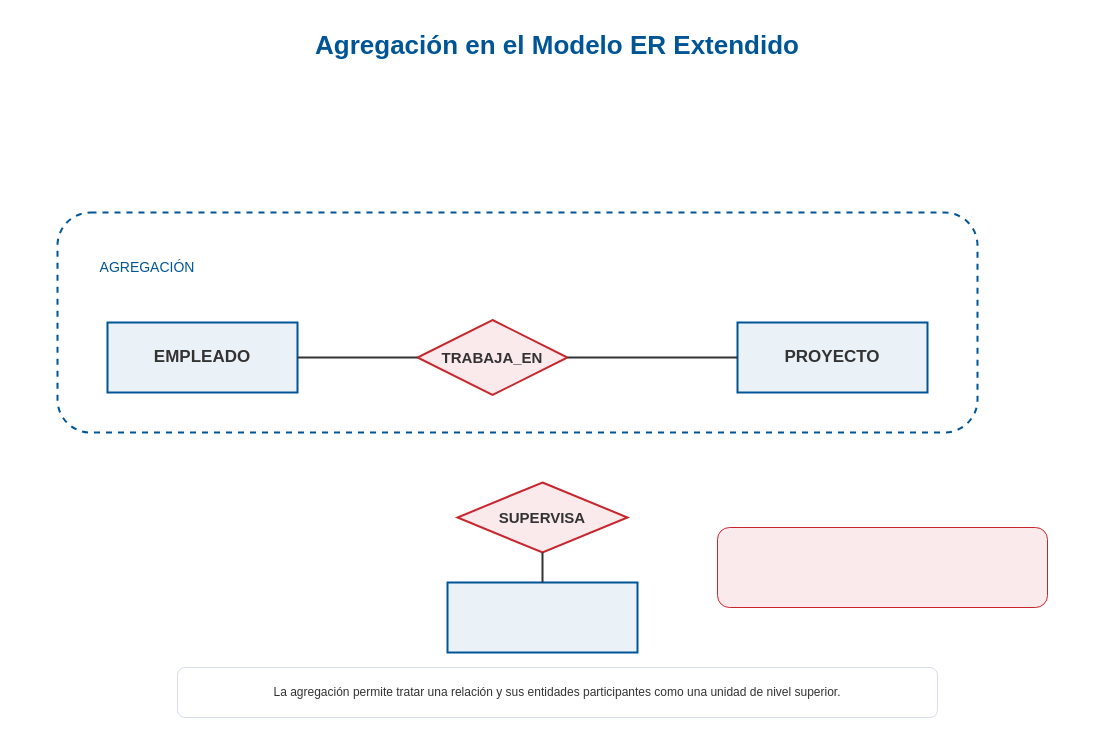
This 1114x735 diagram has some shape labels left out. Each missing label, with the centre of its shape:
GERENTE: the point at 542,617
Un gerente supervisa la participación de un empleado en un proyecto.: the point at 882,567
